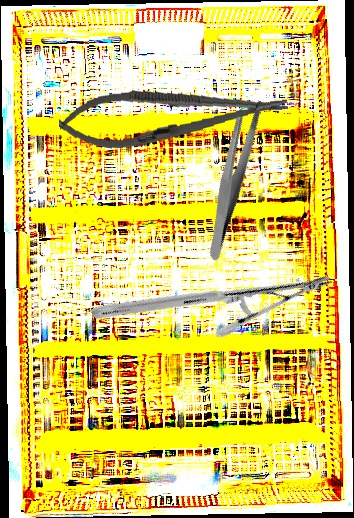Dressing Forceps: (169, 94, 296, 262)
Needle Holder: (89, 183, 334, 411), (56, 76, 291, 156)
